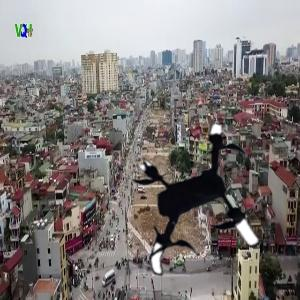drone: (118, 125, 285, 292)
